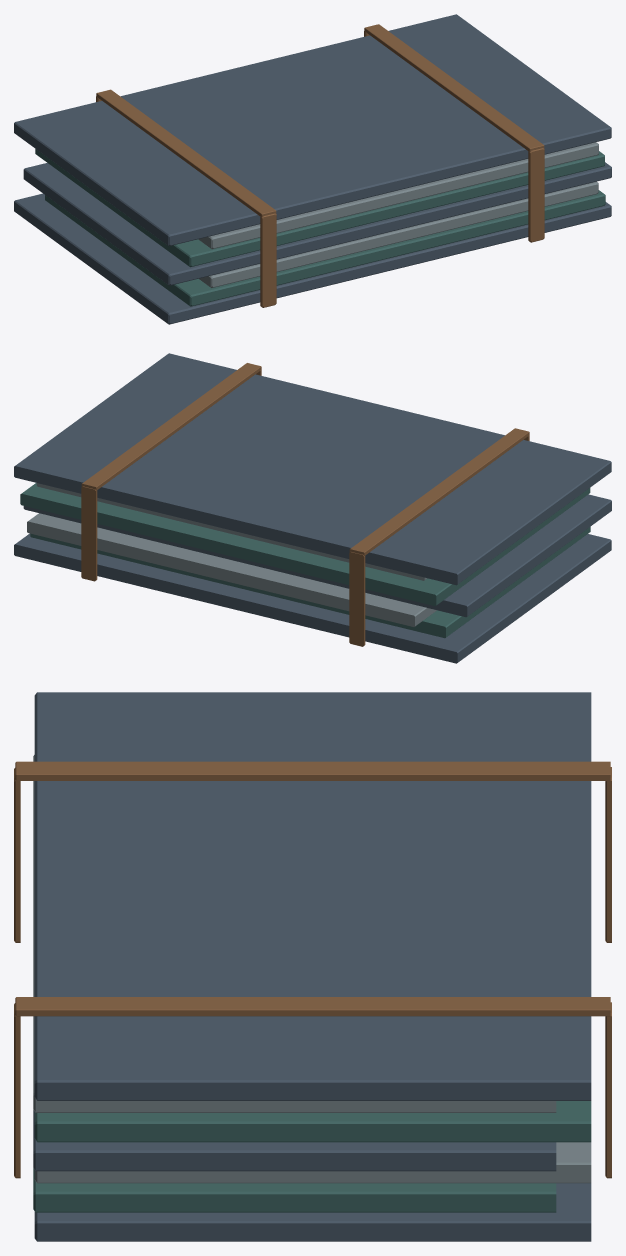
File: R-16_banded_panels.glb
The picture shows the model from 3 angles, top to bottom: view 1: azimuth 30°, elevation 25°; view 2: azimuth 150°, elevation 25°; view 3: azimuth 270°, elevation 25°; orthographic projection. The views are drawn at different scales.
Visible parts, largest first — view 1: R-16_banded_panels; view 2: R-16_banded_panels; view 3: R-16_banded_panels.
Part boxes in pixels (x1,y1,x2,y2): R-16_banded_panels: (14,14,611,324); R-16_banded_panels: (14,353,611,663); R-16_banded_panels: (14,692,611,1241).
Bounding box in the file's own units: 0.96 × 0.195 × 0.623.
